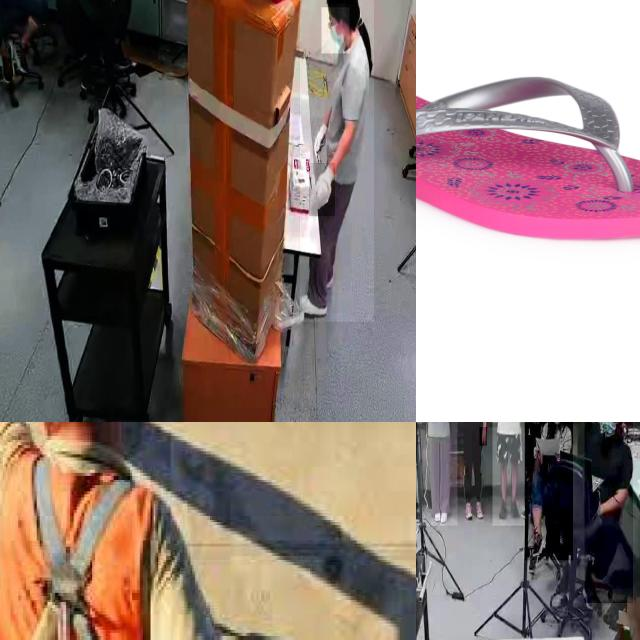Harness: (0, 451, 162, 640)
Sandals: (416, 72, 640, 244)
face_mask: (322, 8, 349, 54), (603, 422, 623, 444), (548, 422, 565, 436)
hand_glove: (309, 163, 335, 217), (310, 117, 331, 162)
hand_noglove: (480, 427, 488, 447)
person: (299, 0, 374, 322), (584, 422, 633, 604), (524, 422, 573, 561), (417, 422, 458, 526), (452, 422, 491, 523), (492, 422, 525, 526)
shoes: (293, 287, 329, 319), (13, 38, 31, 76), (0, 41, 14, 84), (474, 494, 486, 522), (497, 494, 508, 521), (431, 504, 443, 527), (508, 492, 519, 517), (463, 499, 473, 524), (439, 506, 450, 528)
